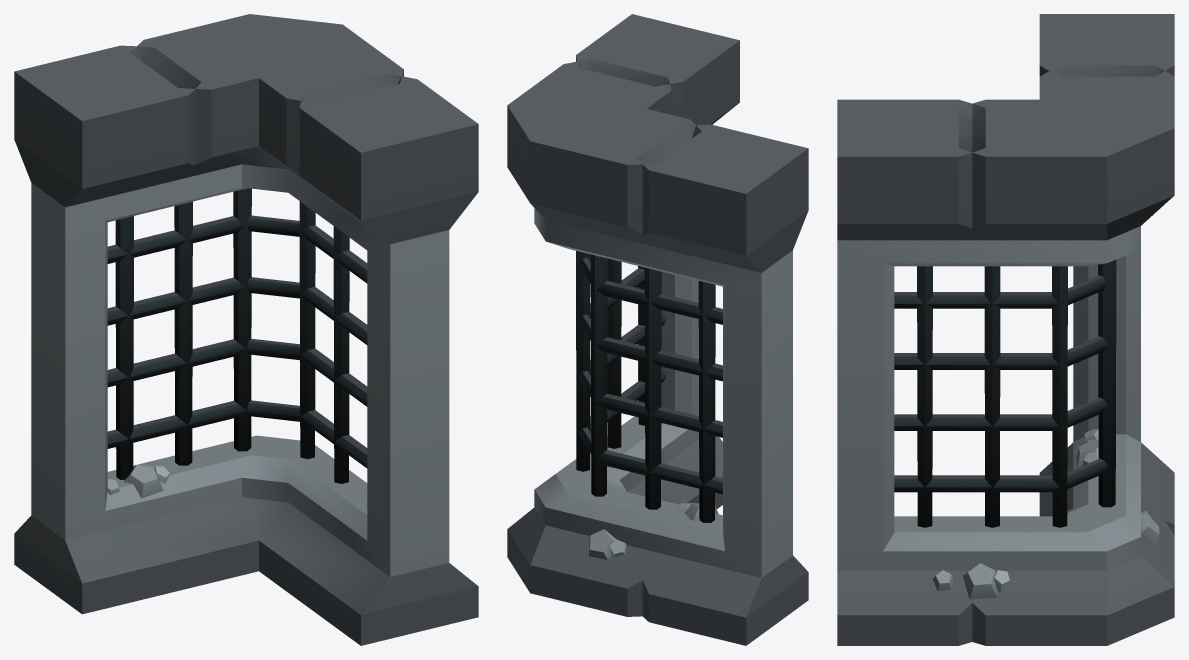
File: wall_corner_gated.gltf
3 views of the same model, side by side, from view 1: azimuth 30°, elevation 25°; view 2: azimuth 150°, elevation 25°; view 3: azimuth 270°, elevation 25° (orthographic). The views are drawn at different scales.
Visible parts, largest first — view 1: wall_corner_gated; view 2: wall_corner_gated; view 3: wall_corner_gated.
Part boxes in pixels (x1,y1,x2,y2): wall_corner_gated: (14,14,478,645); wall_corner_gated: (507,14,808,645); wall_corner_gated: (837,14,1174,645).
Size of the model in its own units: 2.5 by 4 by 2.5.
1 material, 1 textured.
